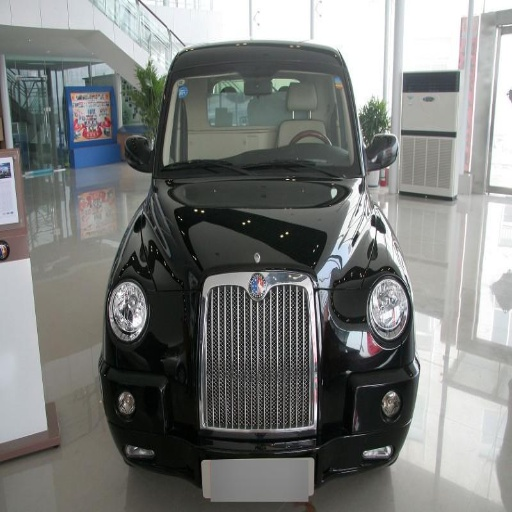front_bumper: (99, 277, 419, 508)
hood: (156, 172, 366, 269)
